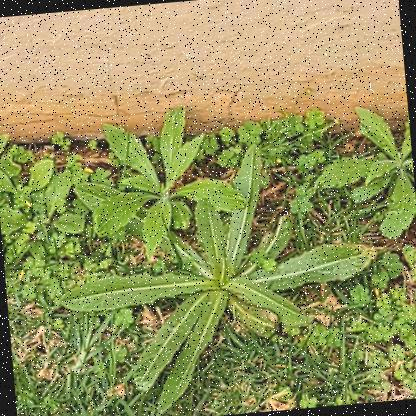Weeds: (50, 133, 388, 415), (83, 101, 250, 258), (307, 100, 415, 252)
